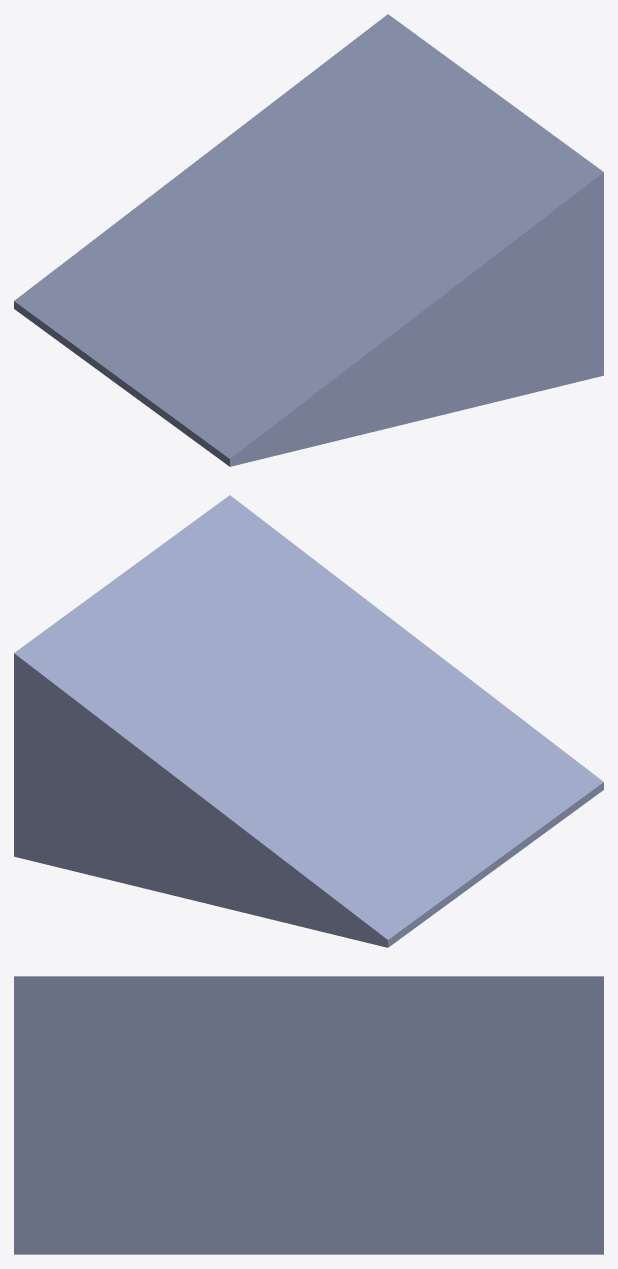
The model's file is tile-slant-high.glb.
3 renders of one model, top to bottom at view 1: azimuth 30°, elevation 25°; view 2: azimuth 150°, elevation 25°; view 3: azimuth 270°, elevation 25°, orthographic. The views are drawn at different scales.
Parts seen in each view (by area): view 1: tile-slantHigh; view 2: tile-slantHigh; view 3: tile-slantHigh.
Part boxes in pixels (x1,y1,x2,y2): tile-slantHigh: (14, 14, 603, 466); tile-slantHigh: (14, 495, 603, 947); tile-slantHigh: (14, 976, 603, 1254).
Size of the model in its own units: 10 by 5.2 by 10.
1 material, 1 textured.
